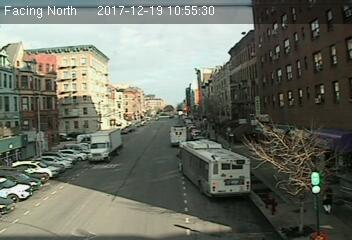bus: (178, 139, 251, 202)
truck: (88, 128, 121, 162), (170, 126, 187, 146)
